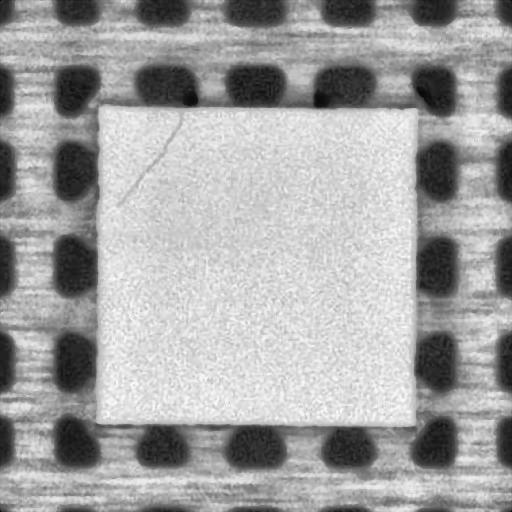DIE_CRACK: (112, 111, 184, 208)
